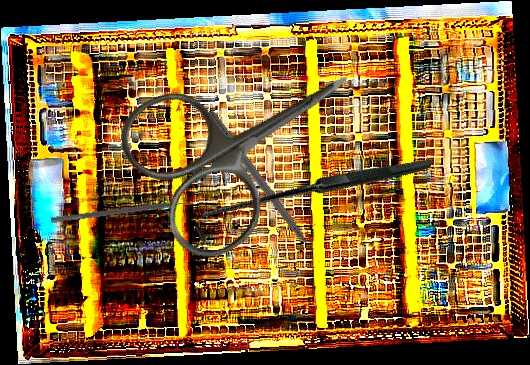Hook Surgical: (192, 79, 433, 318), (204, 108, 324, 267)
Iris Scissors: (106, 6, 393, 272)
Spatula Surgical: (50, 196, 199, 230)
